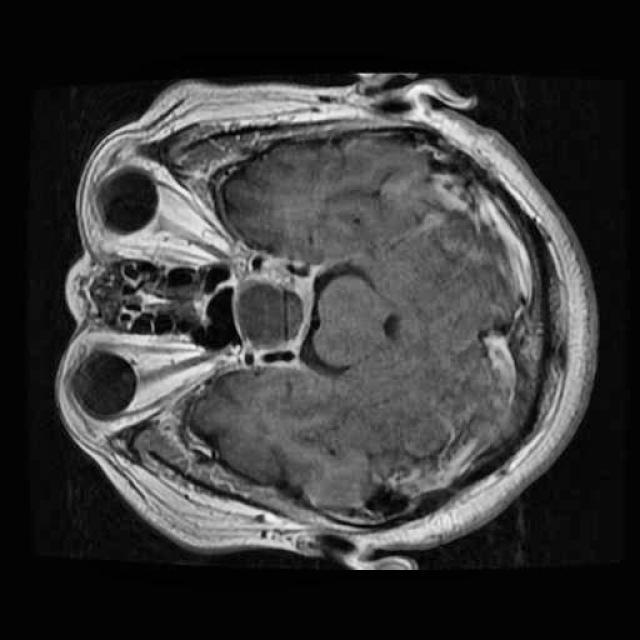Tumor: (221, 255, 320, 372)
